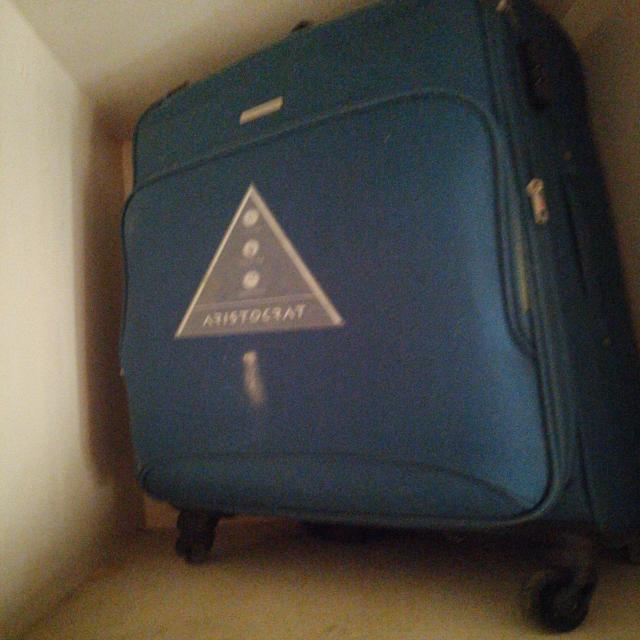suitcaserotation: (112, 0, 636, 635)
